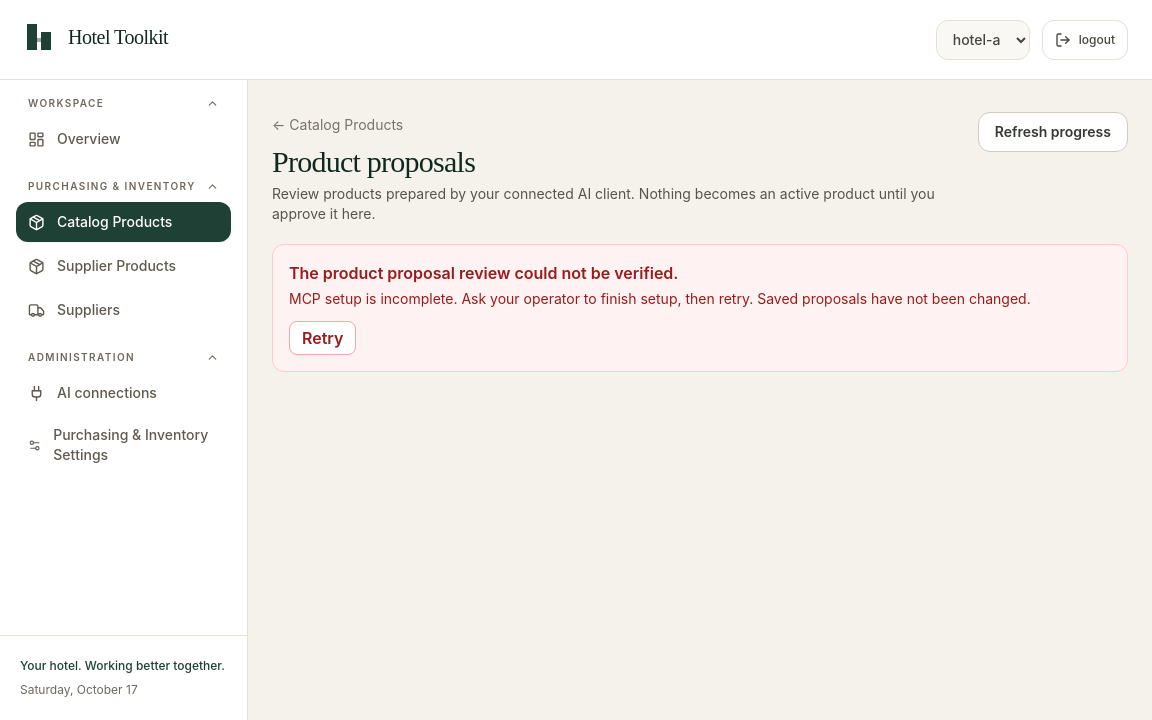
retains a retryable setup failure and opens the original staged batch after recovery
This screenshot has width=1152, height=720.
Expected: the message shows "MCP setup is incomplete. Ask your operator to finish setup, then retry. Saved proposals have not been changed.", [289,290,1031,307]
Click the button "Retry" at (323, 338), box [289,321,356,355]
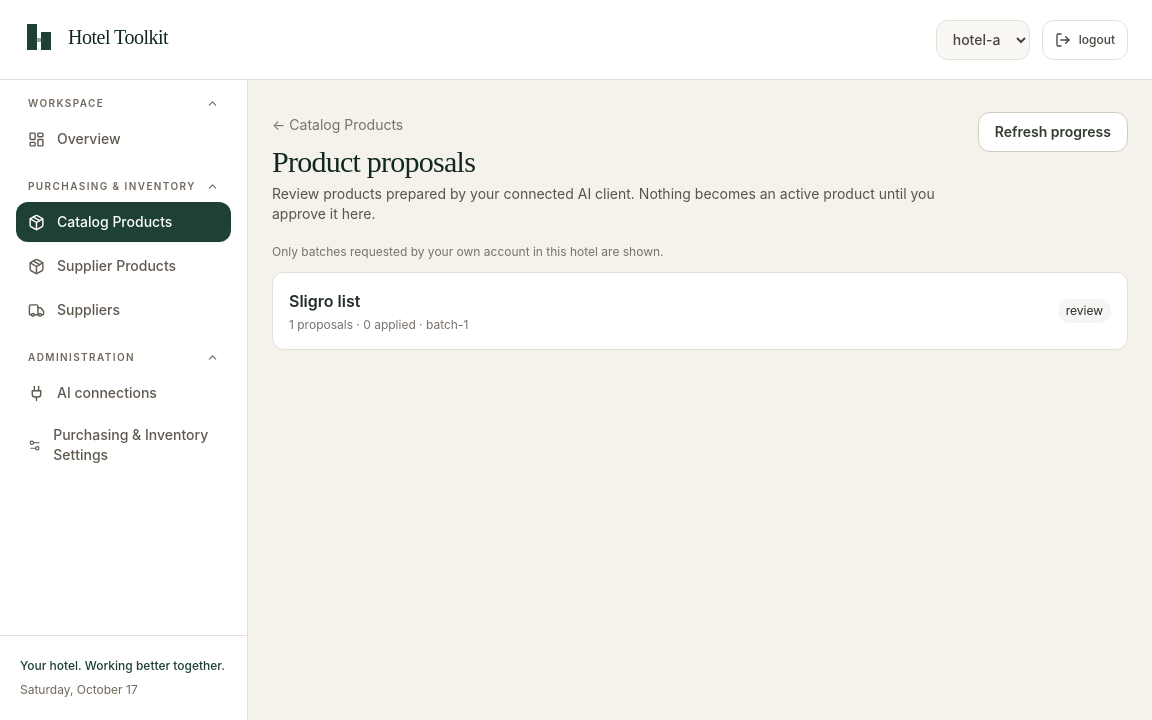
Click the button "Sligro list 1 proposals · 0 applied · batch-1 review" at (325, 301), box [272,272,1128,350]
(page scrolled)
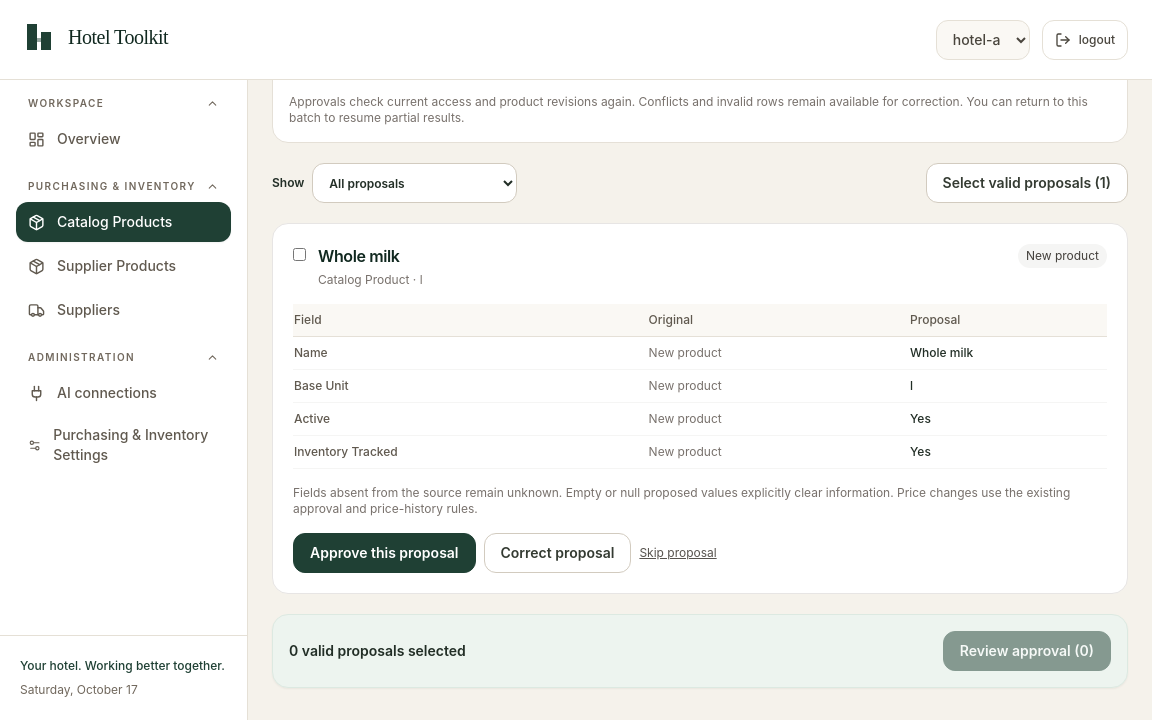
Expected: the element named "Product proposal: Whole milk" is shown, [272,223,1128,594]
